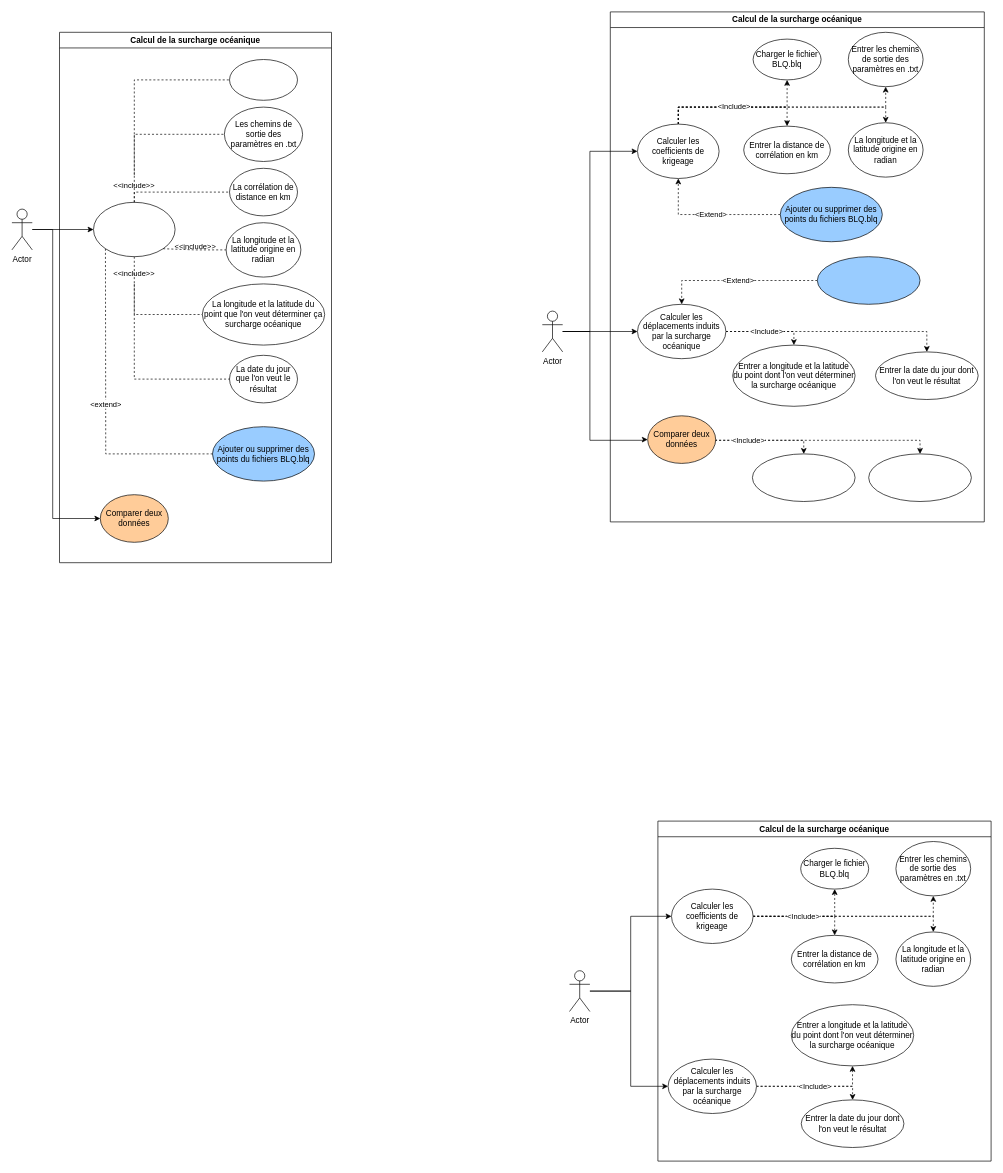
Image size: 1003x1173. Some labels were removed from this diagram. Here are the shapes that lost their labels. From the top down, the box of each, then its label:
(229, 59, 298, 100): Le fichier BLQ.blq
(93, 202, 175, 257): Ajouter des parametres
(817, 256, 920, 304): Charger les fichiers de
(752, 453, 855, 502): Charger le 1er fichier des déplacements
(868, 453, 971, 502): Charger le 2eme fichier des déplacements
